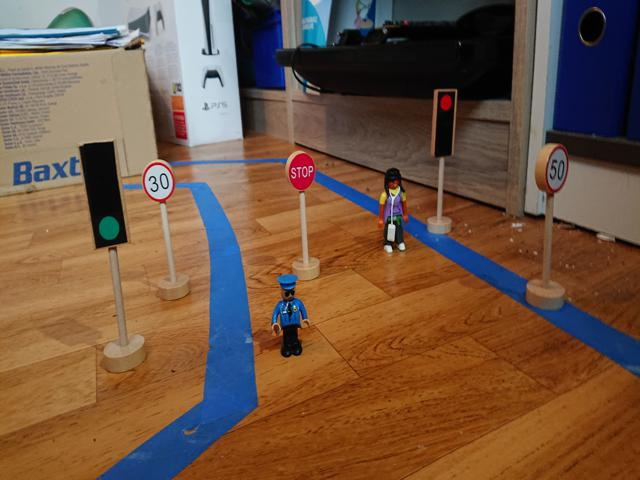30 speed sign: (141, 162, 176, 202)
50 speed sign: (544, 147, 568, 194)
green light: (92, 148, 120, 244)
person: (266, 274, 313, 359), (377, 168, 410, 253)
red light: (433, 90, 453, 157)
stop sign: (287, 153, 315, 189)
